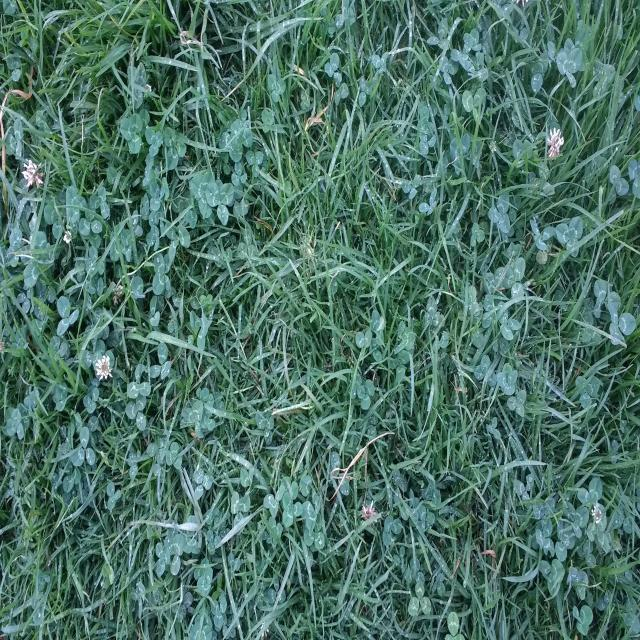Four Leaf Clover: (152, 252, 172, 295)
